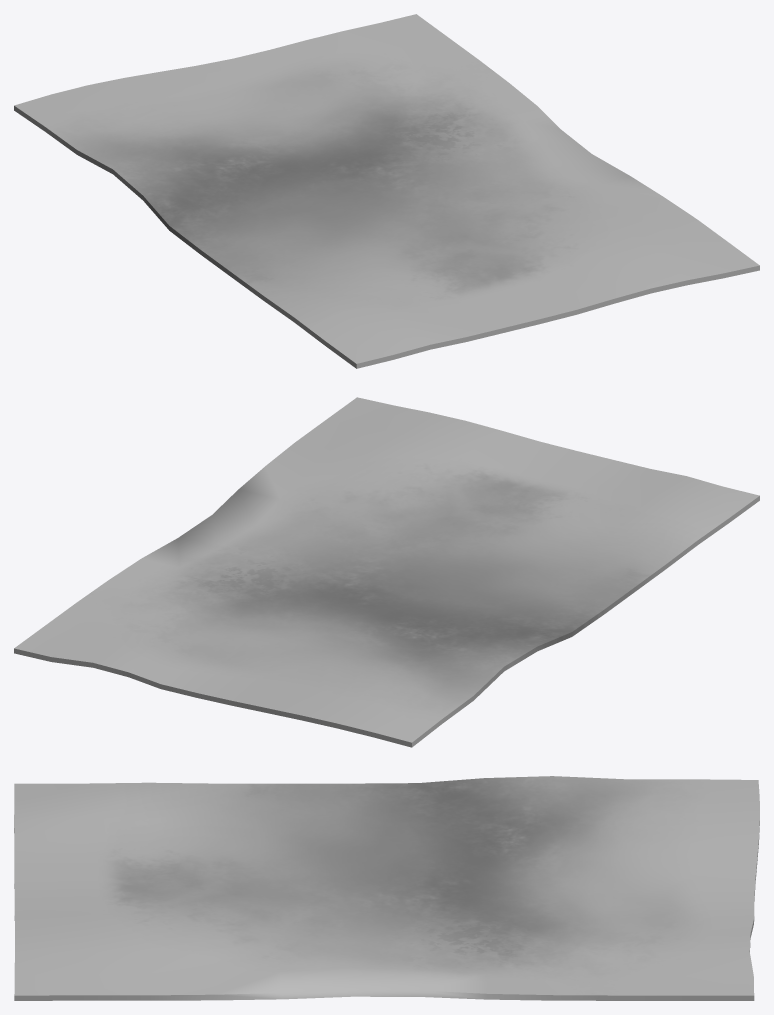
File: rug_sp.gltf
The picture shows the model from 3 angles, top to bottom: view 1: azimuth 30°, elevation 25°; view 2: azimuth 150°, elevation 25°; view 3: azimuth 270°, elevation 25°; orthographic projection. The views are drawn at different scales.
Visible parts, largest first — view 1: Plane.012; view 2: Plane.012; view 3: Plane.012.
Boxes of the visible parts, x1,y1,x2,y2 form: Plane.012: (14,14,759,368); Plane.012: (14,397,759,747); Plane.012: (14,776,759,1000).
Bounding box in the file's own units: 12.81 × 0.4584 × 19.04.
